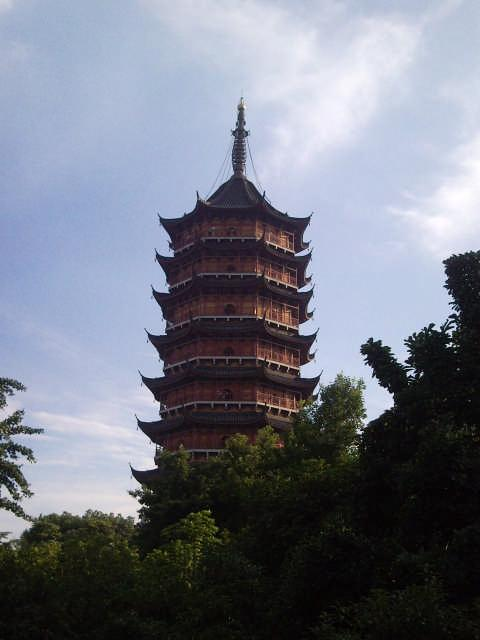temple: (130, 90, 325, 496)
